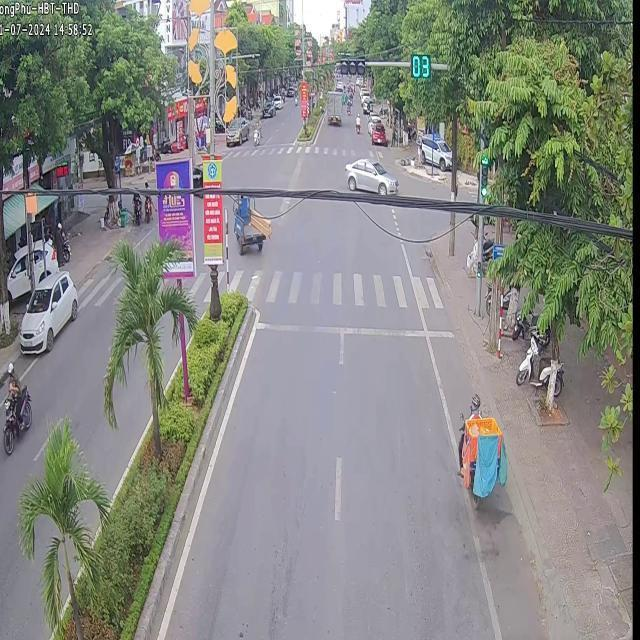car: (18, 269, 77, 350), (343, 156, 397, 194), (230, 194, 263, 254)
green_light: (411, 55, 431, 78), (479, 151, 488, 197)
motobike: (457, 394, 506, 501), (2, 385, 30, 454)
stop_line: (253, 319, 453, 336)
